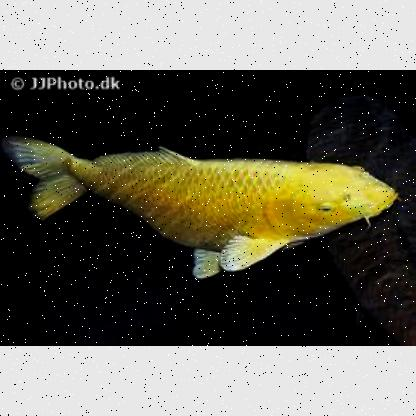ikan-mas: (11, 128, 402, 270)
